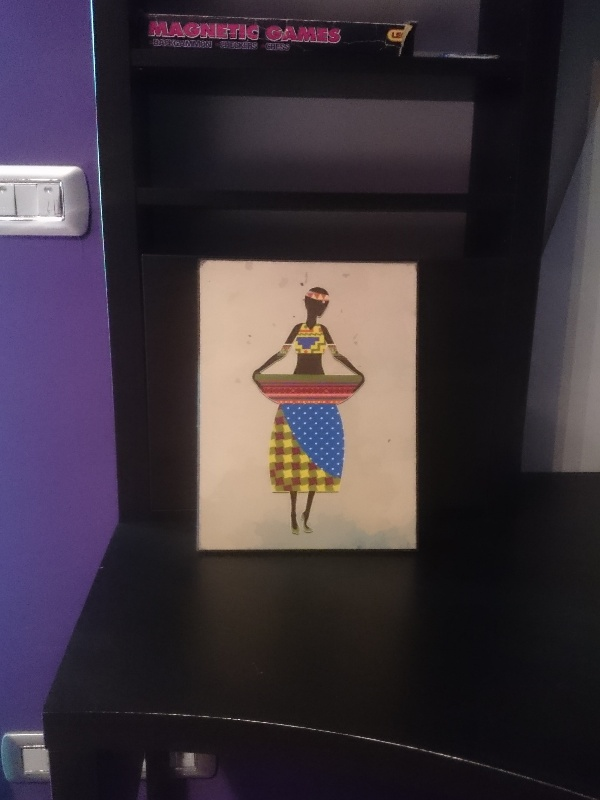my image: (197, 264, 416, 550)
